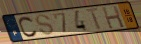4: (73, 10, 89, 32)
7: (52, 12, 68, 34)
C: (18, 16, 39, 38)
H: (101, 5, 127, 30)
S: (35, 13, 56, 36)
T: (84, 7, 103, 32)
